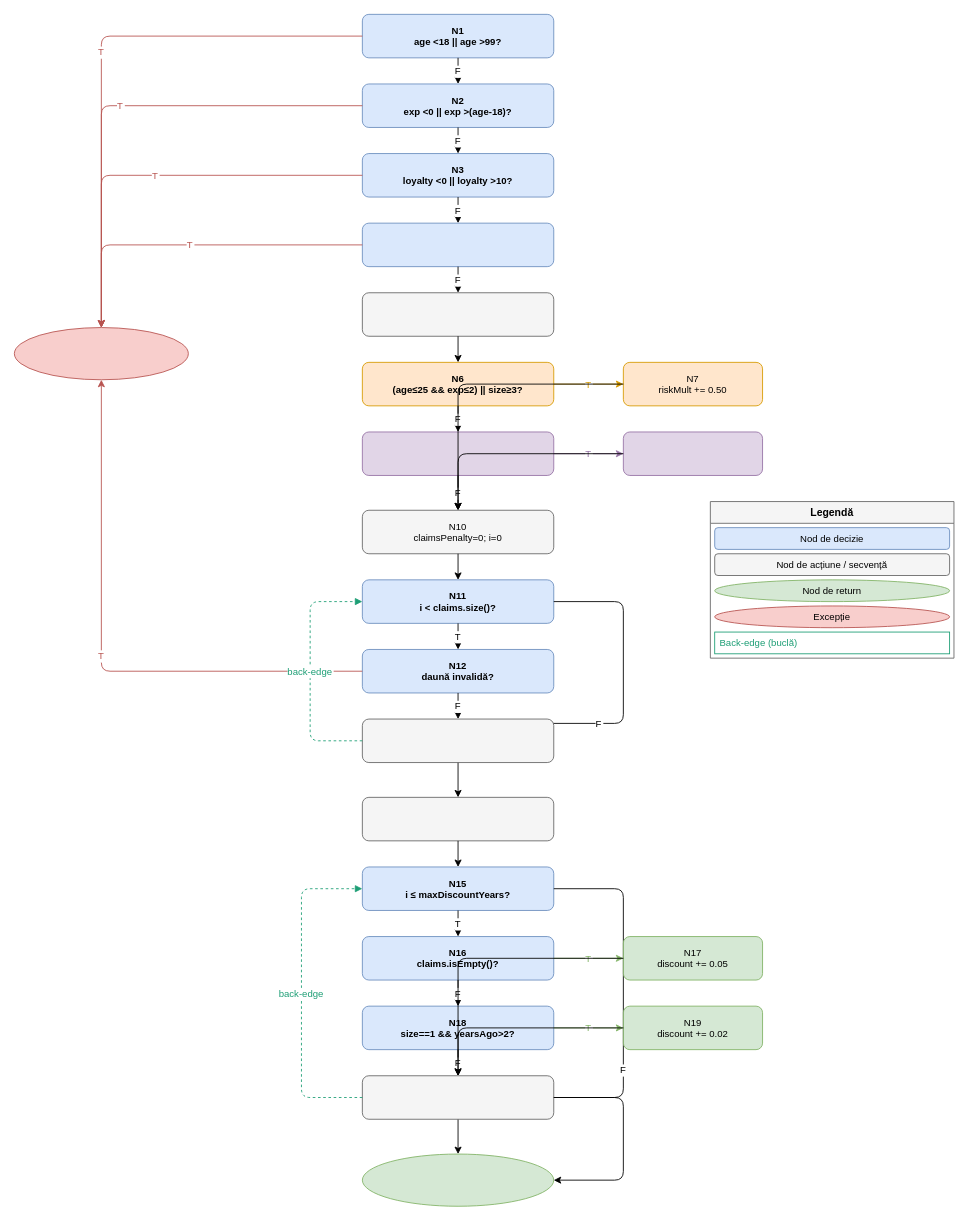
Some shapes in this 968 by 1221 pixel diagram are drawn without their labels. Each missing label, with the centre of its shape:
EX throws IllegalArgumentException: the point at 100,353
N13 penalty += ...; i++: the point at 457,740
N14 riskMult+=penalty; loyalty init: the point at 457,818
N20 i++: the point at 457,1097
N21 return max(premium, 500.0): the point at 457,1179
N4 claims == null?: the point at 457,244
N5 basePremium=1000; riskMult=1.0: the point at 457,314
N8 driverAge > 65?: the point at 457,453
N9 riskMult += 0.20: the point at 692,453
